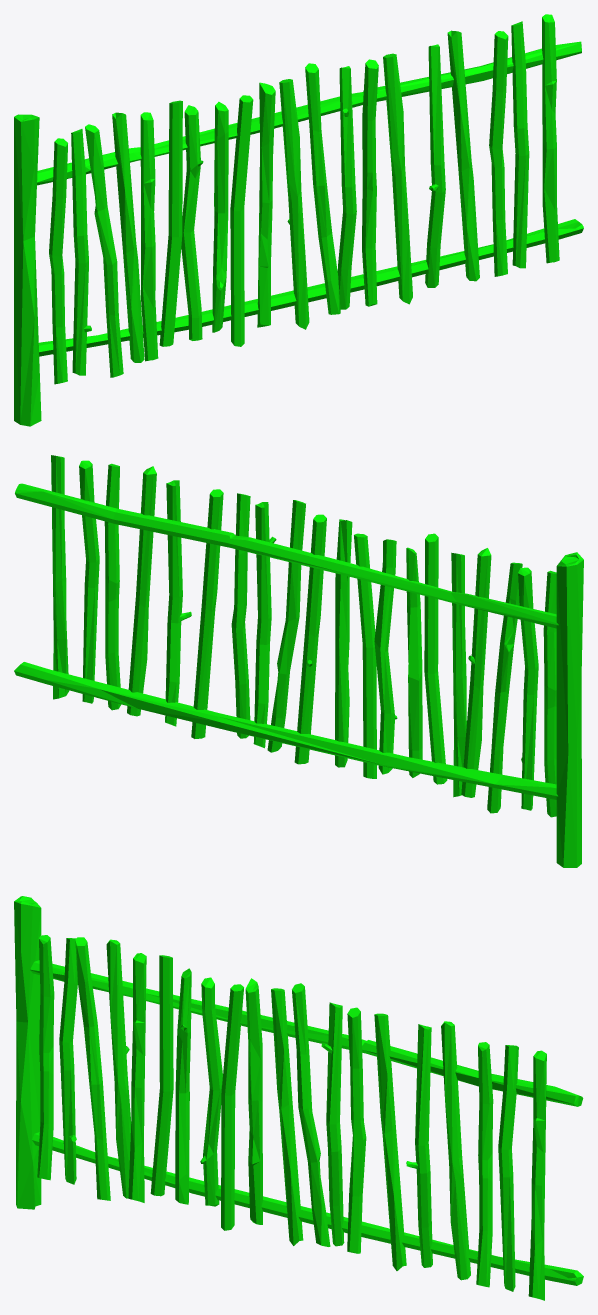
The model's file is SM_Fence_Stick_3m_A.fbx.
3 renders of one model, top to bottom at view 1: azimuth 30°, elevation 25°; view 2: azimuth 150°, elevation 25°; view 3: azimuth 330°, elevation 25°, orthographic.
Parts seen in each view (by area): view 1: fence-stick-3m-a; view 2: fence-stick-3m-a; view 3: fence-stick-3m-a.
Boxes of the visible parts, box(x1,y1,x2,y2) form: fence-stick-3m-a: box(14, 14, 583, 426); fence-stick-3m-a: box(14, 455, 583, 867); fence-stick-3m-a: box(14, 896, 583, 1300).
Size of the model in its own units: 3.07 by 1.6 by 0.1883.
